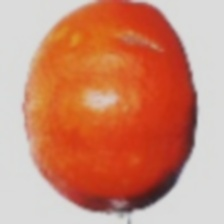tangerine: (50, 31, 189, 194)
